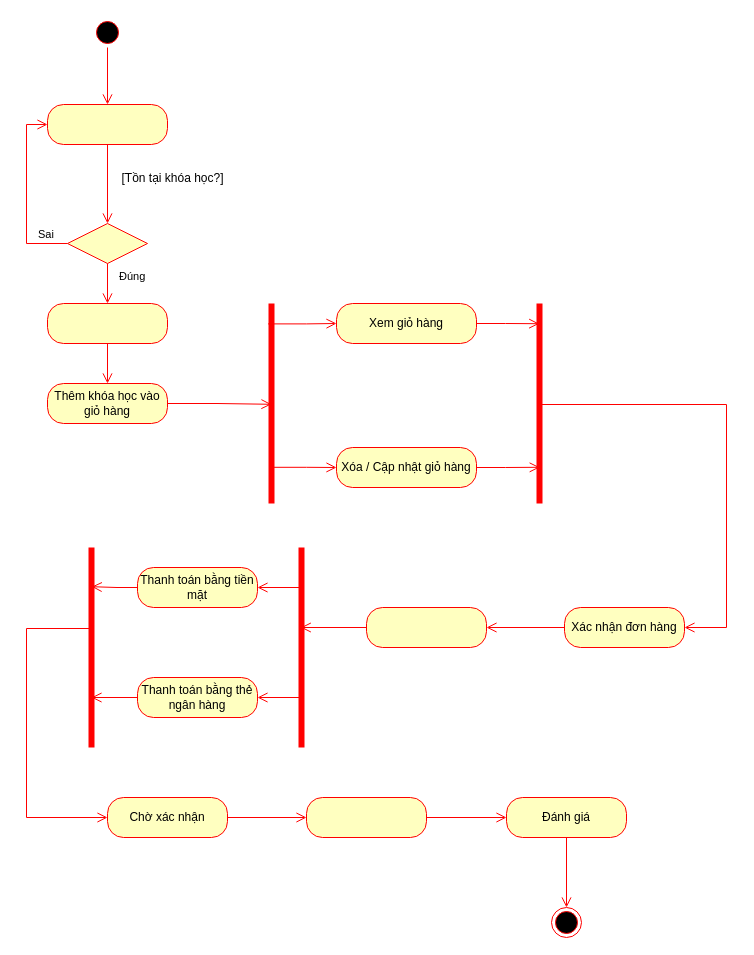
Some shapes in this 754 by 955 pixel diagram are drawn without their labels. Each missing label, with the centre of its shape:
Chọn và xem thông tin về khóa học: (x=107, y=323)
Nhận mã khóa học: (x=366, y=817)
Thanh toán: (x=426, y=627)
Tìm kiếm khóa học: (x=107, y=124)
